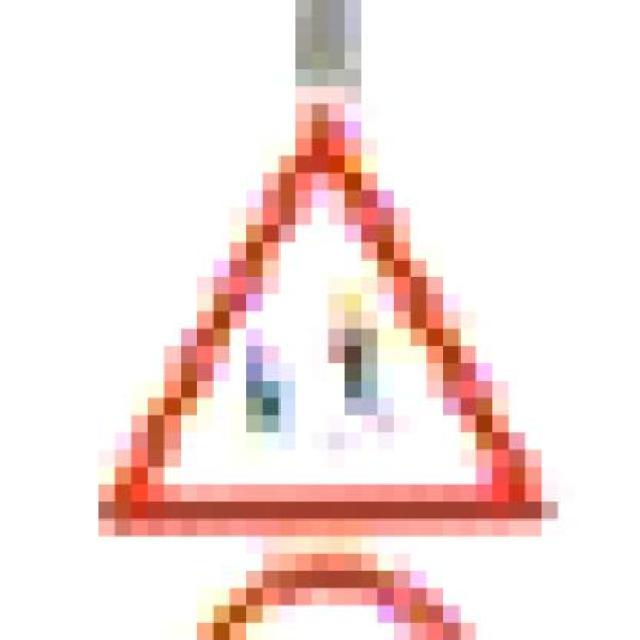Beware of children: (48, 86, 574, 537)
